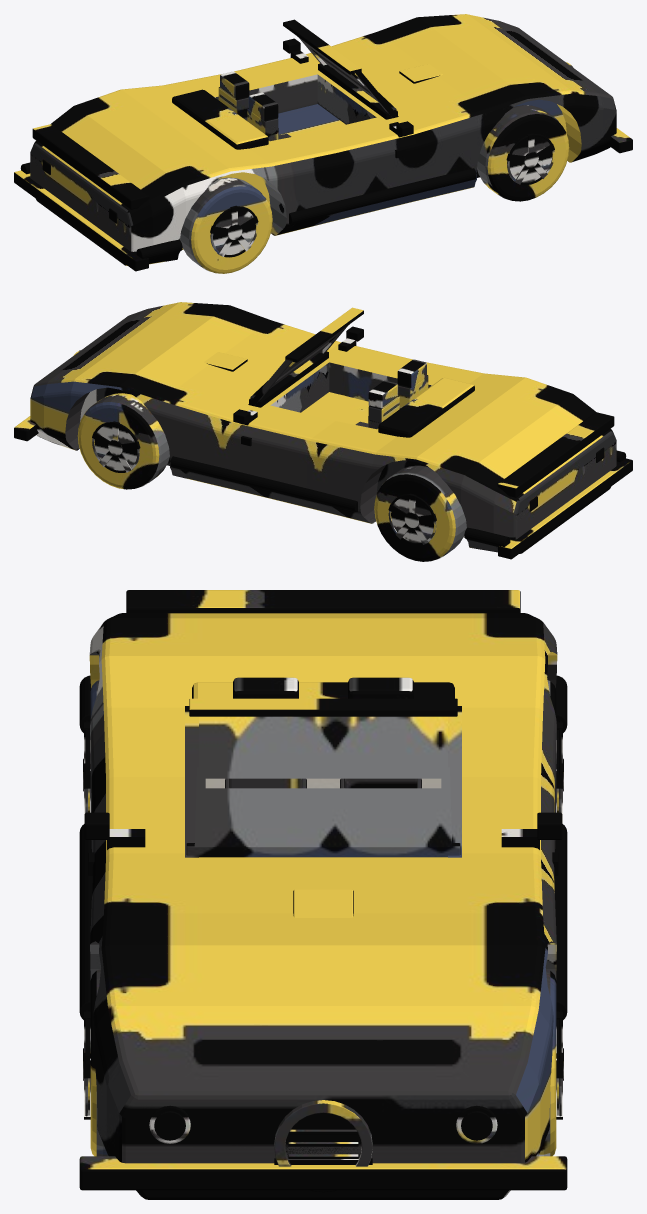
Rendered from Modle_Vehicle_SpiderSport.fbx.
3 renders of one model, top to bottom at view 1: azimuth 30°, elevation 25°; view 2: azimuth 150°, elevation 25°; view 3: azimuth 270°, elevation 25°, orthographic. The views are drawn at different scales.
Visible parts, largest first — view 1: GEO-SportSpider; view 2: GEO-SportSpider; view 3: GEO-SportSpider.
Boxes of the visible parts, box(x1,y1,x2,y2) form: GEO-SportSpider: box(14, 14, 632, 273); GEO-SportSpider: box(14, 302, 632, 561); GEO-SportSpider: box(79, 590, 567, 1199).
Size of the model in its own units: 4.2 by 1.22 by 1.78.
6 materials, 6 textured.
